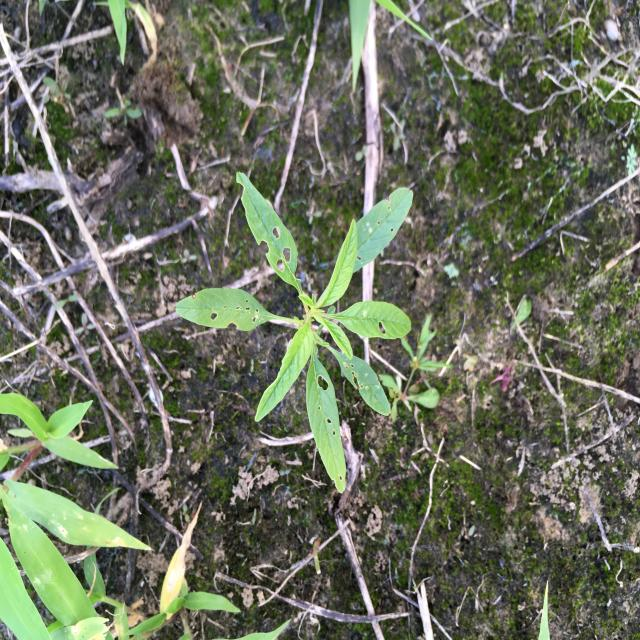Carpetweed: (380, 310, 452, 423)
Waterhemp: (173, 169, 414, 496)
